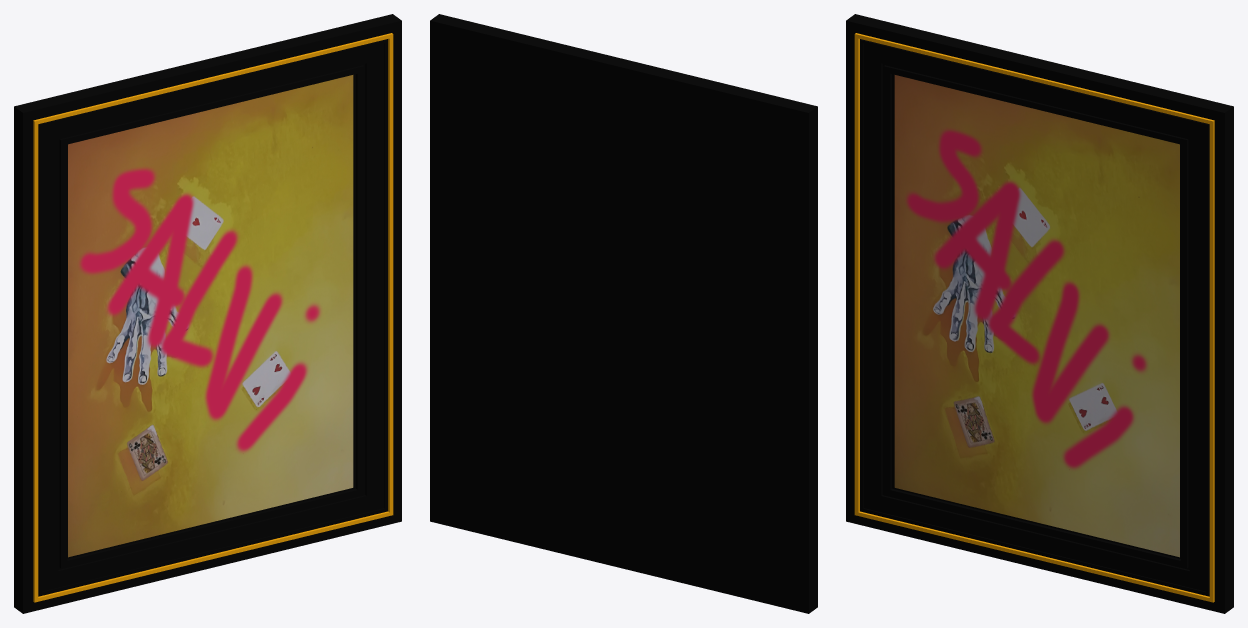
Rendered from painting.glb.
3 views of the same model, side by side, from view 1: azimuth 30°, elevation 25°; view 2: azimuth 150°, elevation 25°; view 3: azimuth 330°, elevation 25° (orthographic).
Parts seen in each view (by area): view 1: Painting; view 2: Painting; view 3: Painting.
Boxes of the visible parts, left/top/right/bottom form: Painting: left=14, top=14, right=401, bottom=613; Painting: left=430, top=14, right=817, bottom=613; Painting: left=846, top=14, right=1233, bottom=613.
Bounding box in the file's own units: 4.11 × 5.19 × 0.1967.
Materials: 3 (1 with a texture image).
